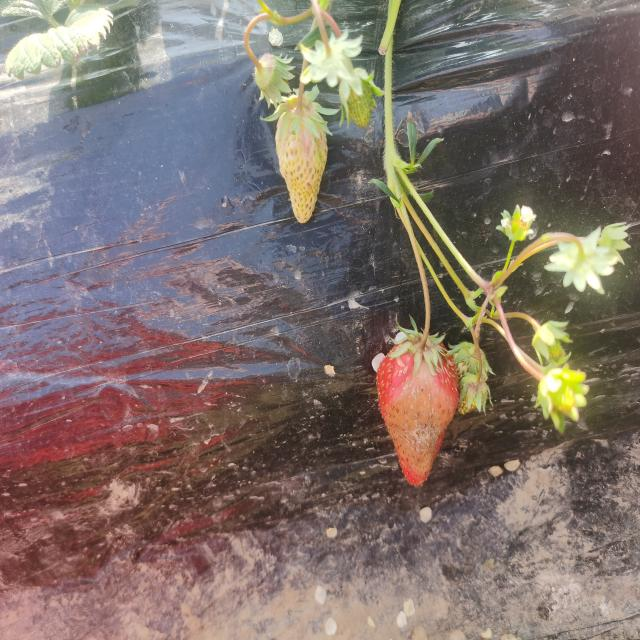stem: (418, 297, 430, 352)
strawberry: (376, 334, 459, 486)
